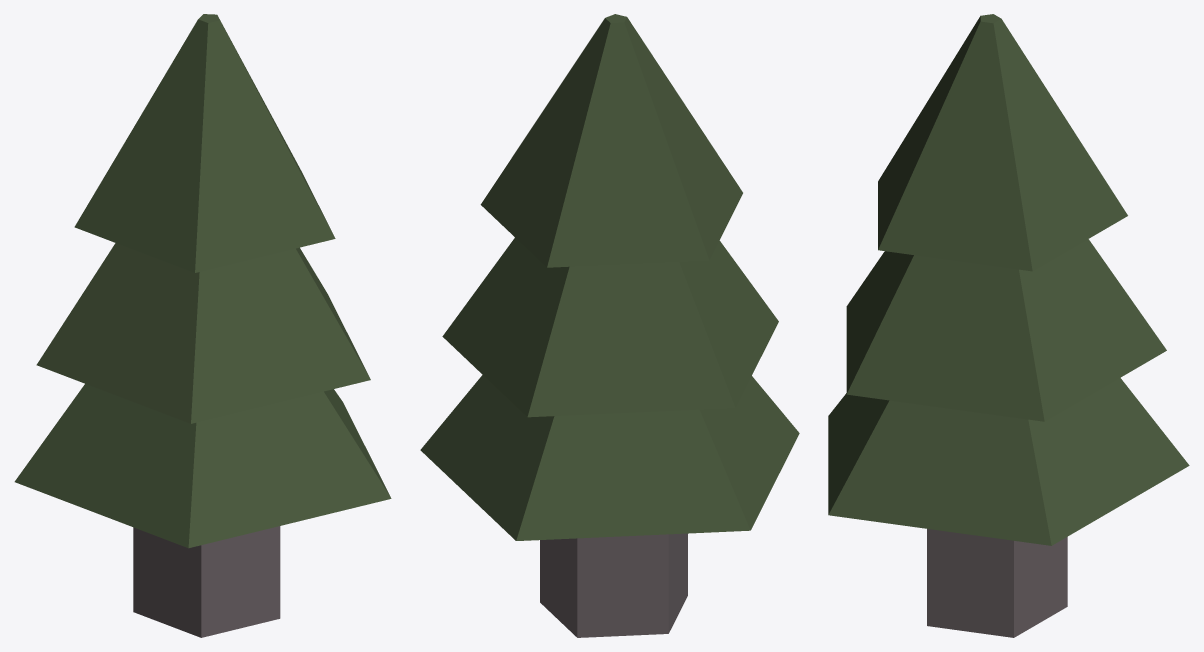
File: arbol 2 final nivel 1 .fbx
3 renders of one model, left to right at view 1: azimuth 30°, elevation 25°; view 2: azimuth 150°, elevation 25°; view 3: azimuth 270°, elevation 25°, orthographic.
Visible parts, largest first — view 1: arbol.001; view 2: arbol.001; view 3: arbol.001.
Boxes of the visible parts, x1,y1,x2,y2 form: arbol.001: [14, 14, 391, 637]; arbol.001: [420, 14, 799, 637]; arbol.001: [828, 14, 1189, 637].
Bounding box in the file's own units: 267 × 456 × 254.
